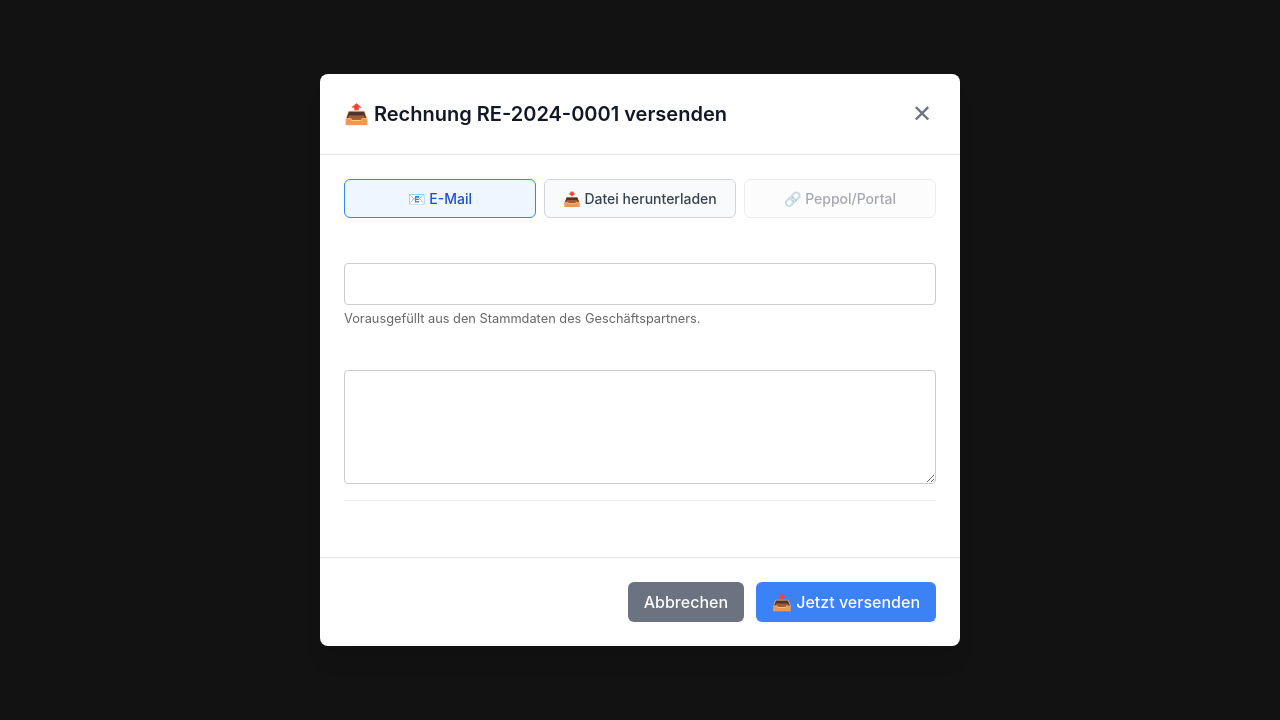
it: SendInvoiceModal › email mode › shows error when sendEmail fails with 400
Click the button "📤 Jetzt versenden".
click(846, 602)  # box top-left (756, 582), bottom-right (936, 622)
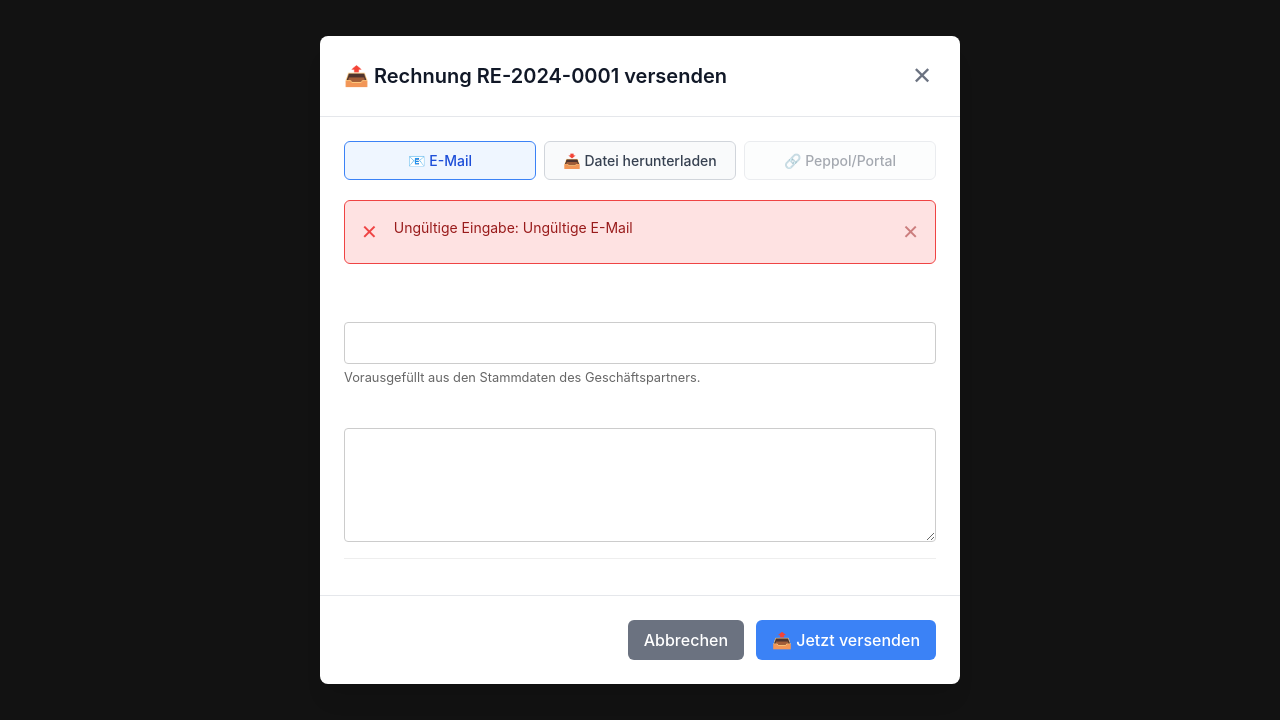
Result: the text "Ungültige Eingabe" is shown at top-left (394, 219), bottom-right (633, 236)
